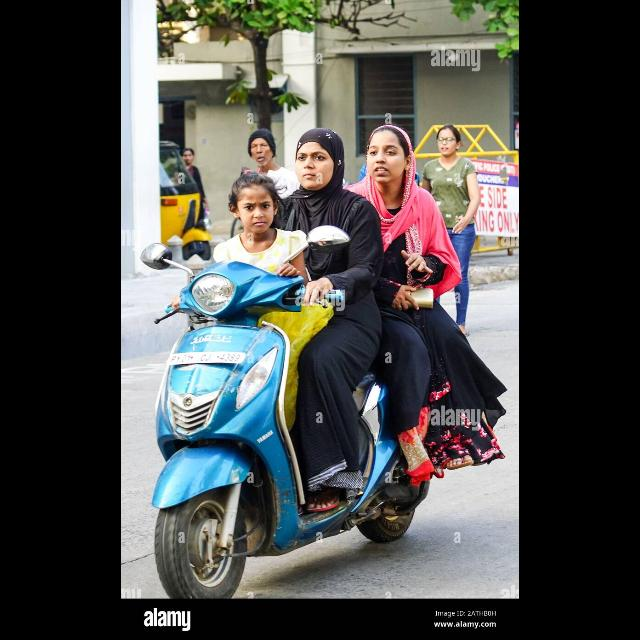without helmet: (294, 126, 346, 188), (230, 174, 280, 232), (366, 127, 414, 183)
